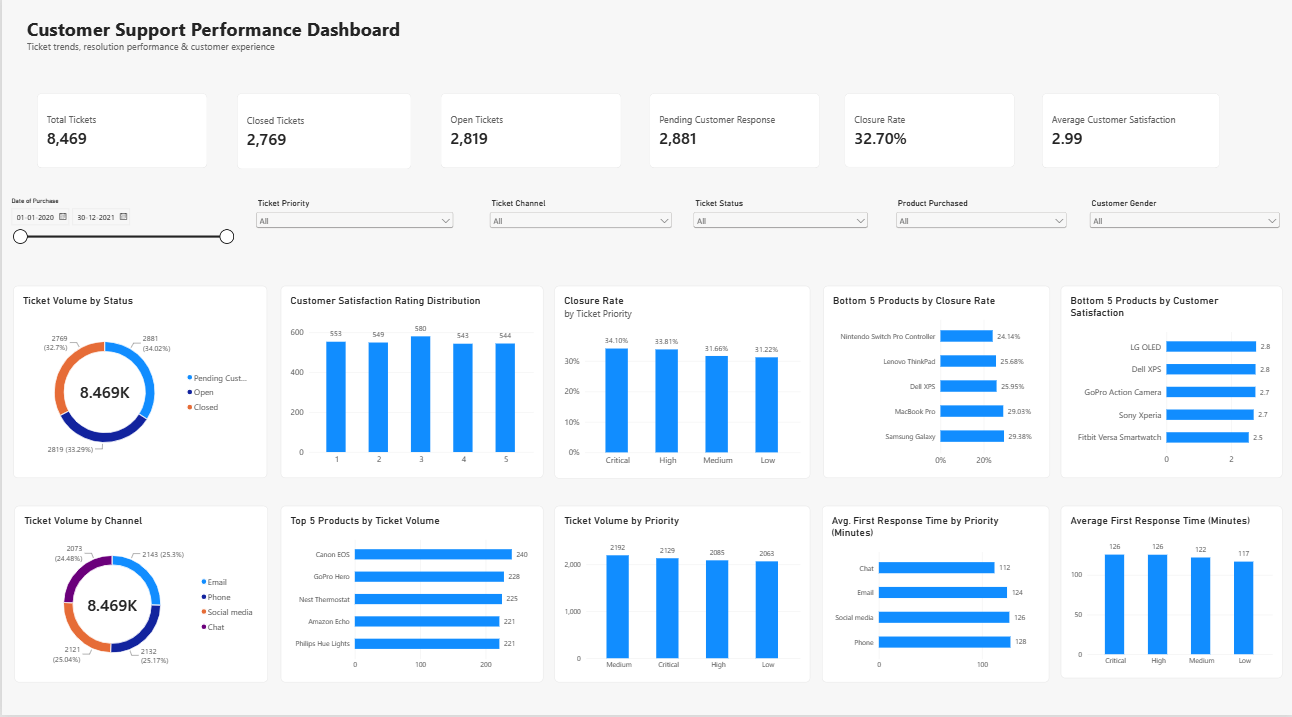

This screenshot's page, from the dashboard's own definition file:
{"tool":"powerbi","page":{"name":"Overview","canvas":[2250,1250],"ordinal":0},"visuals":[{"type":"donutChart","title":"Ticket Volume by Status","fields":{"Category":["Customer_Support_Cleaned_v2.Ticket Status"],"Y":["CountNonNull(Customer_Support_Cleaned_v2.Ticket ID)"]},"box":[20,501.3,441.3,334.7],"z":0},{"type":"clusteredColumnChart","title":"Customer Satisfaction Rating Distribution","fields":{"Category":["Customer_Support_Cleaned_v2.Customer Satisfaction Rating"],"Y":["CountNonNull(Customer_Support_Cleaned_v2.Customer Satisfaction Rating)"]},"box":[485.3,502.7,457,334],"z":1000},{"type":"clusteredColumnChart","title":"Ticket Volume by Priority","fields":{"Category":["Customer_Support_Cleaned_v2.Ticket Priority"],"Y":["CountNonNull(Customer_Support_Cleaned_v2.Ticket ID)"]},"box":[961.3,884,445,307],"z":2000},{"type":"clusteredBarChart","title":"Top 5 Products by Ticket Volume","fields":{"Category":["Customer_Support_Cleaned_v2.Product Purchased"],"Y":["CountNonNull(Customer_Support_Cleaned_v2.Ticket ID)"]},"box":[484,884,457,307],"z":3000},{"type":"cardVisual","fields":{"Data":["Customer_Support_Cleaned_v2.Total Tickets Display"]},"box":[60,166.7,296.4,130.9],"z":4000},{"type":"cardVisual","fields":{"Data":["Customer_Support_Cleaned_v2.Closed Tickets Display"]},"box":[408,166.7,303.6,132.7],"z":5000},{"type":"cardVisual","fields":{"Data":["Customer_Support_Cleaned_v2.Open Ticket Display"]},"box":[762.7,168,314.5,130.9],"z":6000},{"type":"cardVisual","fields":{"Data":["Customer_Support_Cleaned_v2.Pending Customer Response Display"]},"box":[1125.3,166.7,296.4,130.9],"z":7000},{"type":"cardVisual","fields":{"Data":["Customer_Support_Cleaned_v2.Closure Rate Display"]},"box":[1465.3,168,296,129.3],"z":8000},{"type":"clusteredColumnChart","fields":{"Category":["Customer_Support_Cleaned_v2.Ticket Priority"],"Y":["Customer_Support_Cleaned_v2.Closure Rate"]},"box":[960,502.7,445,335],"z":9000},{"type":"clusteredBarChart","title":"Bottom 5 Products by Closure Rate","fields":{"Category":["Customer_Support_Cleaned_v2.Product Purchased"],"Y":["Customer_Support_Cleaned_v2.Closure Rate"]},"box":[1428,502.7,394.5,334.5],"z":10000},{"type":"clusteredBarChart","title":"Bottom 5 Products by Customer Satisfaction","fields":{"Category":["Customer_Support_Cleaned_v2.Product Purchased"],"Y":["Customer_Support_Cleaned_v2.Average Customer Satisfaction"]},"box":[1841.3,501.3,385.9,334.1],"z":11000},{"type":"donutChart","title":"Ticket Volume by Channel","fields":{"Category":["Customer_Support_Cleaned_v2.Ticket Channel"],"Y":["CountNonNull(Customer_Support_Cleaned_v2.Ticket ID)"]},"box":[21.3,884,441,307],"z":12000},{"type":"clusteredColumnChart","title":"Average First Response Time (Minutes)","fields":{"Category":["Customer_Support_Cleaned_v2.Ticket Priority"],"Y":["Customer_Support_Cleaned_v2.Average First Response Time"]},"box":[1841.3,884,385.9,300],"z":13000},{"type":"clusteredBarChart","title":"Avg. First Response Time by Priority (Minutes)","fields":{"Category":["Customer_Support_Cleaned_v2.Ticket Channel"],"Y":["Customer_Support_Cleaned_v2.Average First Response Time"]},"box":[1426.7,884,395.3,307.1],"z":14000},{"type":"cardVisual","fields":{"Data":["Customer_Support_Cleaned_v2.Average Satisfaction Display"]},"box":[1808,166.7,309.1,130.9],"z":15000},{"type":"slicer","fields":{"Values":["Customer_Support_Cleaned_v2.Date of Purchase"]},"box":[9.3,348,398.7,102.7],"z":16000},{"type":"slicer","fields":{"Values":["Customer_Support_Cleaned_v2.Ticket Priority"]},"box":[437.3,349.3,352.7,101.8],"z":17000},{"type":"slicer","fields":{"Values":["Customer_Support_Cleaned_v2.Ticket Channel"]},"box":[842.7,349.3,326.7,101.3],"z":18000},{"type":"slicer","fields":{"Values":["Customer_Support_Cleaned_v2.Ticket Status"]},"box":[1198.7,349.3,313.3,101.3],"z":19000},{"type":"slicer","fields":{"Values":["Customer_Support_Cleaned_v2.Product Purchased"]},"box":[1550.7,349.3,306.7,101.3],"z":20000},{"type":"slicer","fields":{"Values":["Customer_Support_Cleaned_v2.Customer Gender"]},"box":[1886.7,349.3,340,101.3],"z":21000},{"type":"textbox","box":[78,1096.5,384,150],"z":22000},{"type":"textbox","box":[42.4,31.5,708.7,80.4],"z":22001}]}

Visuals, with their boxes in screenshot pixels (x1, y1, x2, y2), scaled from the page's 2250x1250 canvas onto the 1292x717 screenshot:
"Ticket Volume by Status" donutChart: <box>11,288,265,480</box>
"Customer Satisfaction Rating Distribution" clusteredColumnChart: <box>279,288,541,480</box>
"Ticket Volume by Priority" clusteredColumnChart: <box>552,507,808,683</box>
"Top 5 Products by Ticket Volume" clusteredBarChart: <box>278,507,540,683</box>
cardVisual - Customer_Support_Cleaned_v2.Total Tickets Display: <box>34,96,205,171</box>
cardVisual - Customer_Support_Cleaned_v2.Closed Tickets Display: <box>234,96,409,172</box>
cardVisual - Customer_Support_Cleaned_v2.Open Ticket Display: <box>438,96,619,171</box>
cardVisual - Customer_Support_Cleaned_v2.Pending Customer Response Display: <box>646,96,816,171</box>
cardVisual - Customer_Support_Cleaned_v2.Closure Rate Display: <box>841,96,1011,171</box>
clusteredColumnChart - Customer_Support_Cleaned_v2.Ticket Priority x Customer_Support_Cleaned_v2.Closure Rate: <box>551,288,807,481</box>
"Bottom 5 Products by Closure Rate" clusteredBarChart: <box>820,288,1047,480</box>
"Bottom 5 Products by Customer Satisfaction" clusteredBarChart: <box>1057,288,1279,479</box>
"Ticket Volume by Channel" donutChart: <box>12,507,265,683</box>
"Average First Response Time (Minutes)" clusteredColumnChart: <box>1057,507,1279,679</box>
"Avg. First Response Time by Priority (Minutes)" clusteredBarChart: <box>819,507,1046,683</box>
cardVisual - Customer_Support_Cleaned_v2.Average Satisfaction Display: <box>1038,96,1216,171</box>
slicer - Customer_Support_Cleaned_v2.Date of Purchase: <box>5,200,234,259</box>
slicer - Customer_Support_Cleaned_v2.Ticket Priority: <box>251,200,454,259</box>
slicer - Customer_Support_Cleaned_v2.Ticket Channel: <box>484,200,671,258</box>
slicer - Customer_Support_Cleaned_v2.Ticket Status: <box>688,200,868,258</box>
slicer - Customer_Support_Cleaned_v2.Product Purchased: <box>890,200,1067,258</box>
slicer - Customer_Support_Cleaned_v2.Customer Gender: <box>1083,200,1279,258</box>
textbox: <box>45,629,265,715</box>
textbox: <box>24,18,431,64</box>
